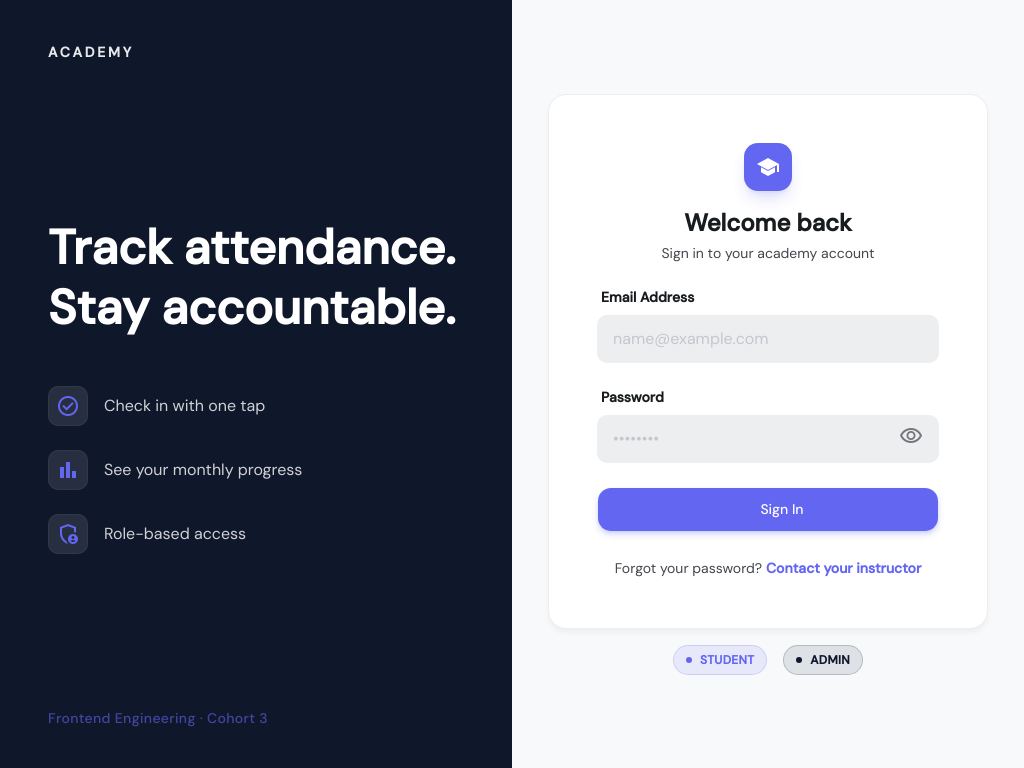
it: Login › shows error message for wrong credentials
Type "wrong@gmail.com" into the field with test id "login-email-input" at x=768, y=339, box x1=597 y1=315 x2=939 y2=363
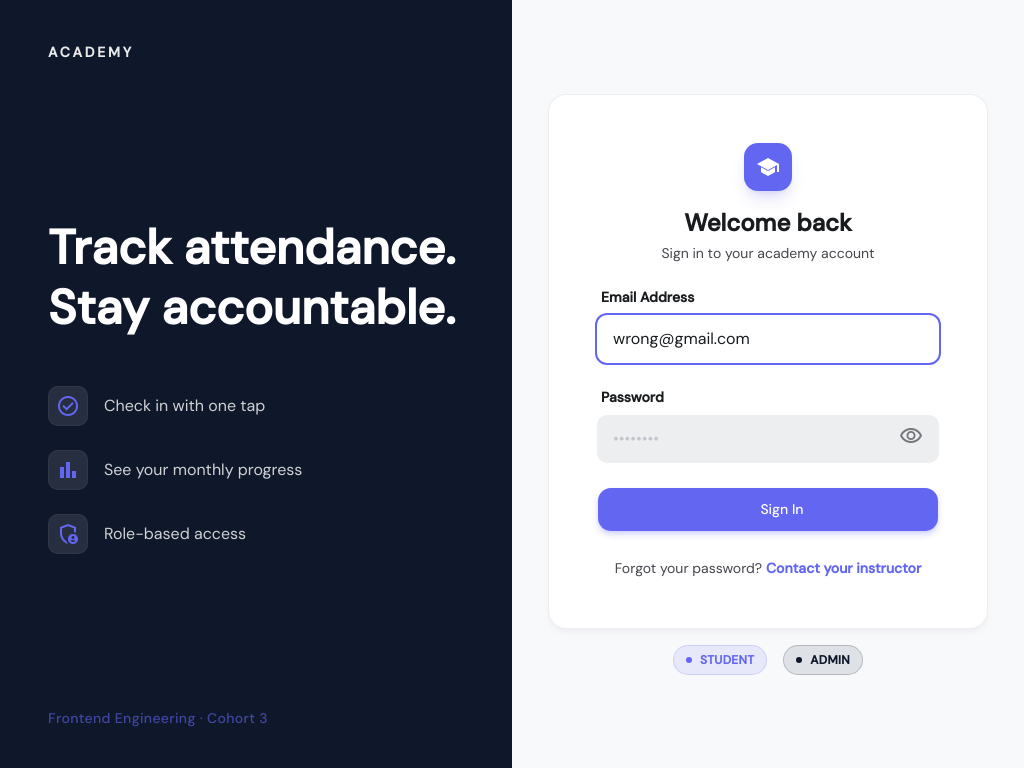
Type "wrongpass" into the password field with test id "login-password-input" at x=768, y=439, box x1=597 y1=415 x2=939 y2=463
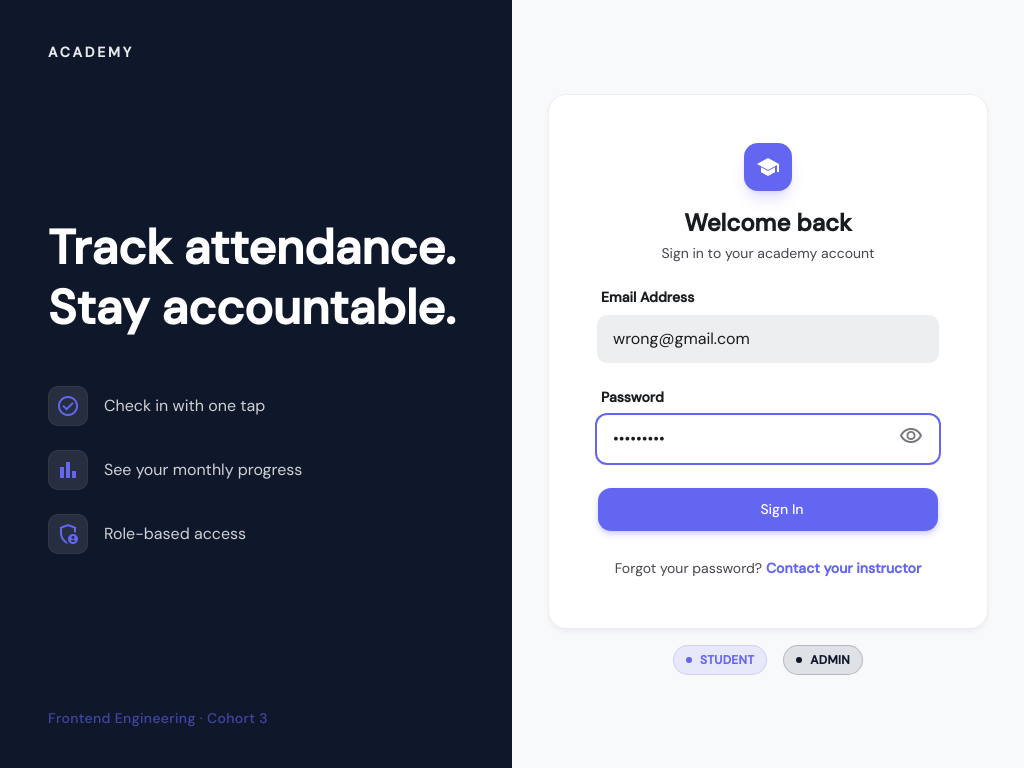
Click the button with test id "login-submit-button" at x=768, y=510, box x1=597 y1=487 x2=939 y2=532
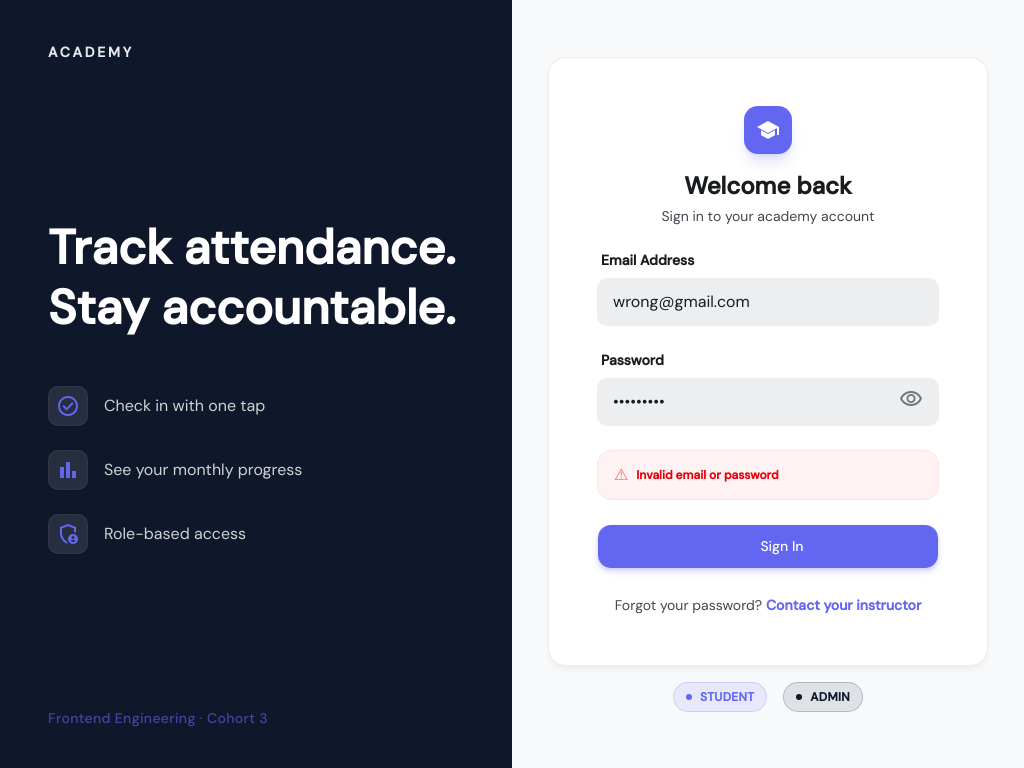
Result: the element with test id "login-error" is shown at x1=597 y1=450 x2=939 y2=500
